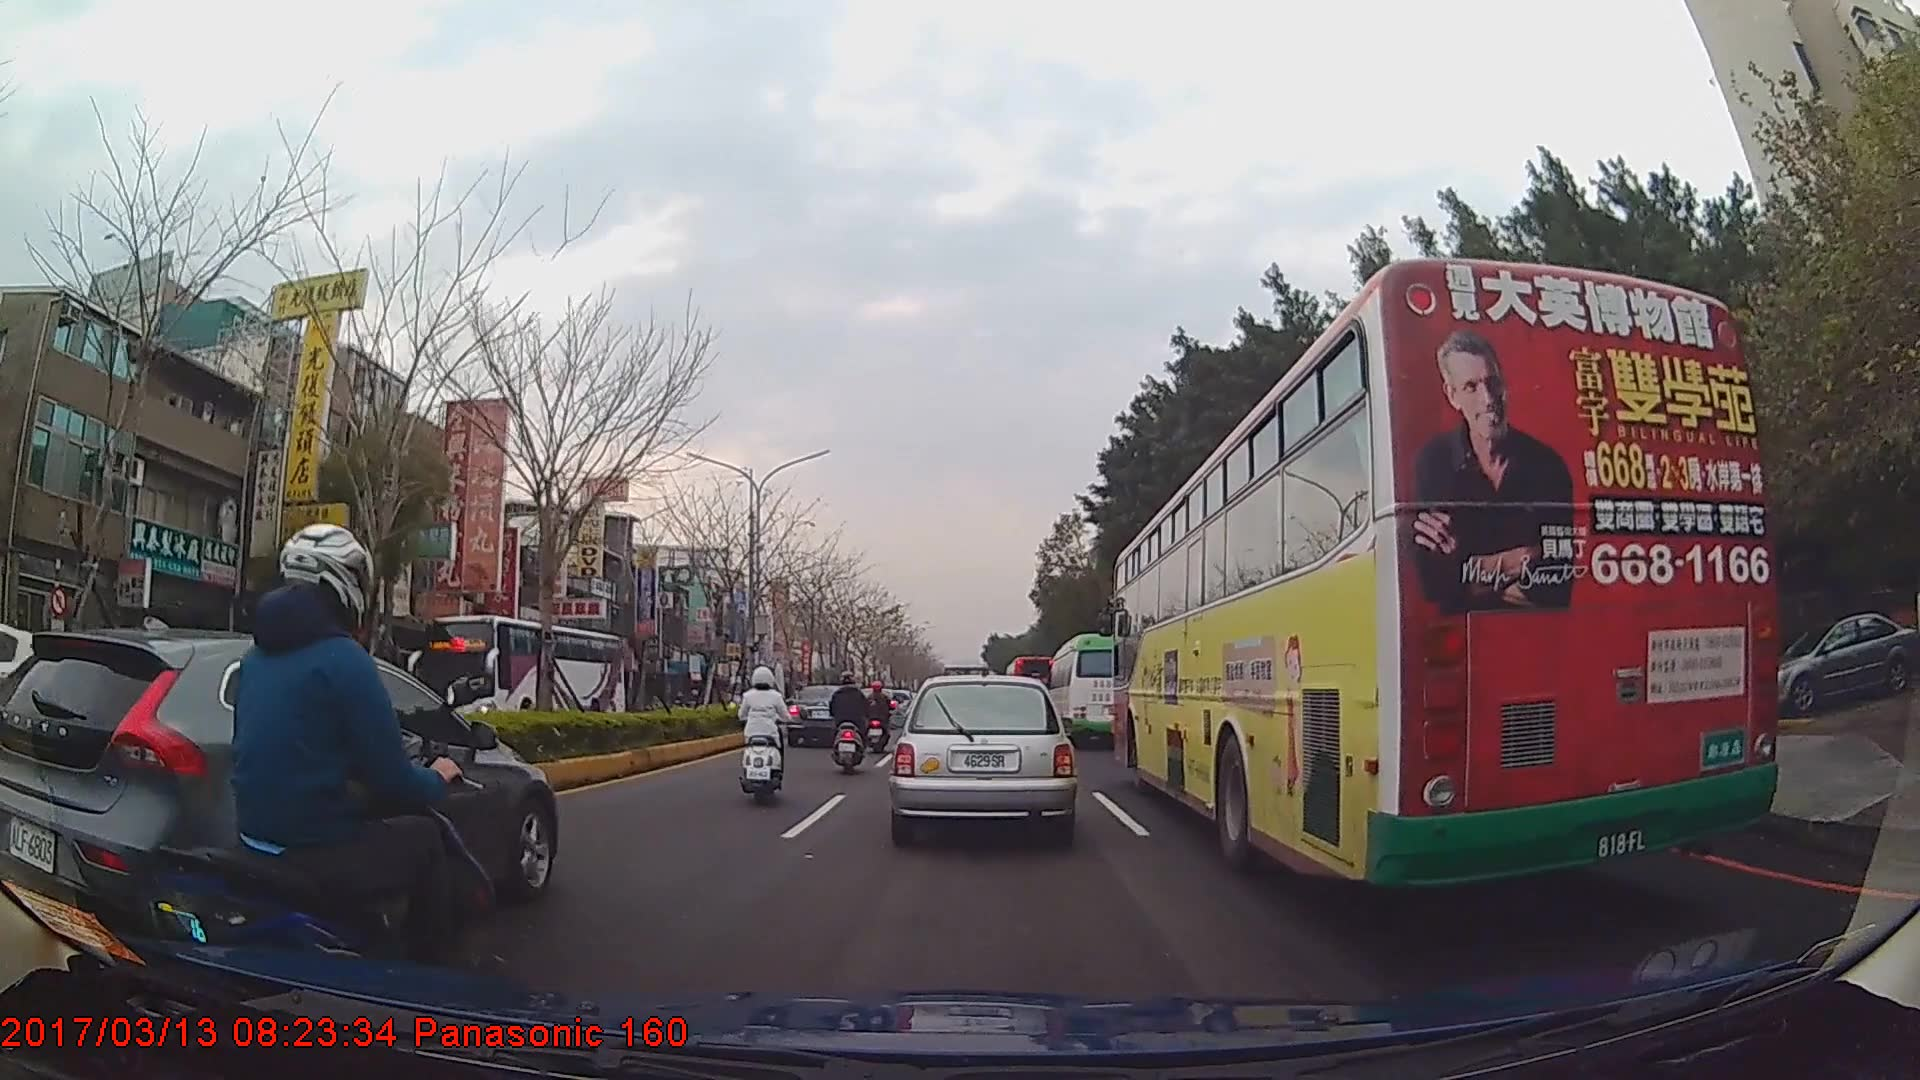rider: (123, 521, 490, 1036), (733, 662, 792, 802), (826, 673, 877, 765), (865, 679, 892, 749)
vehicle: (1108, 256, 1781, 892), (1, 626, 568, 964), (891, 672, 1075, 842), (423, 613, 626, 750), (1751, 608, 1915, 713), (1045, 630, 1143, 748), (788, 681, 869, 747), (1000, 651, 1057, 725)
